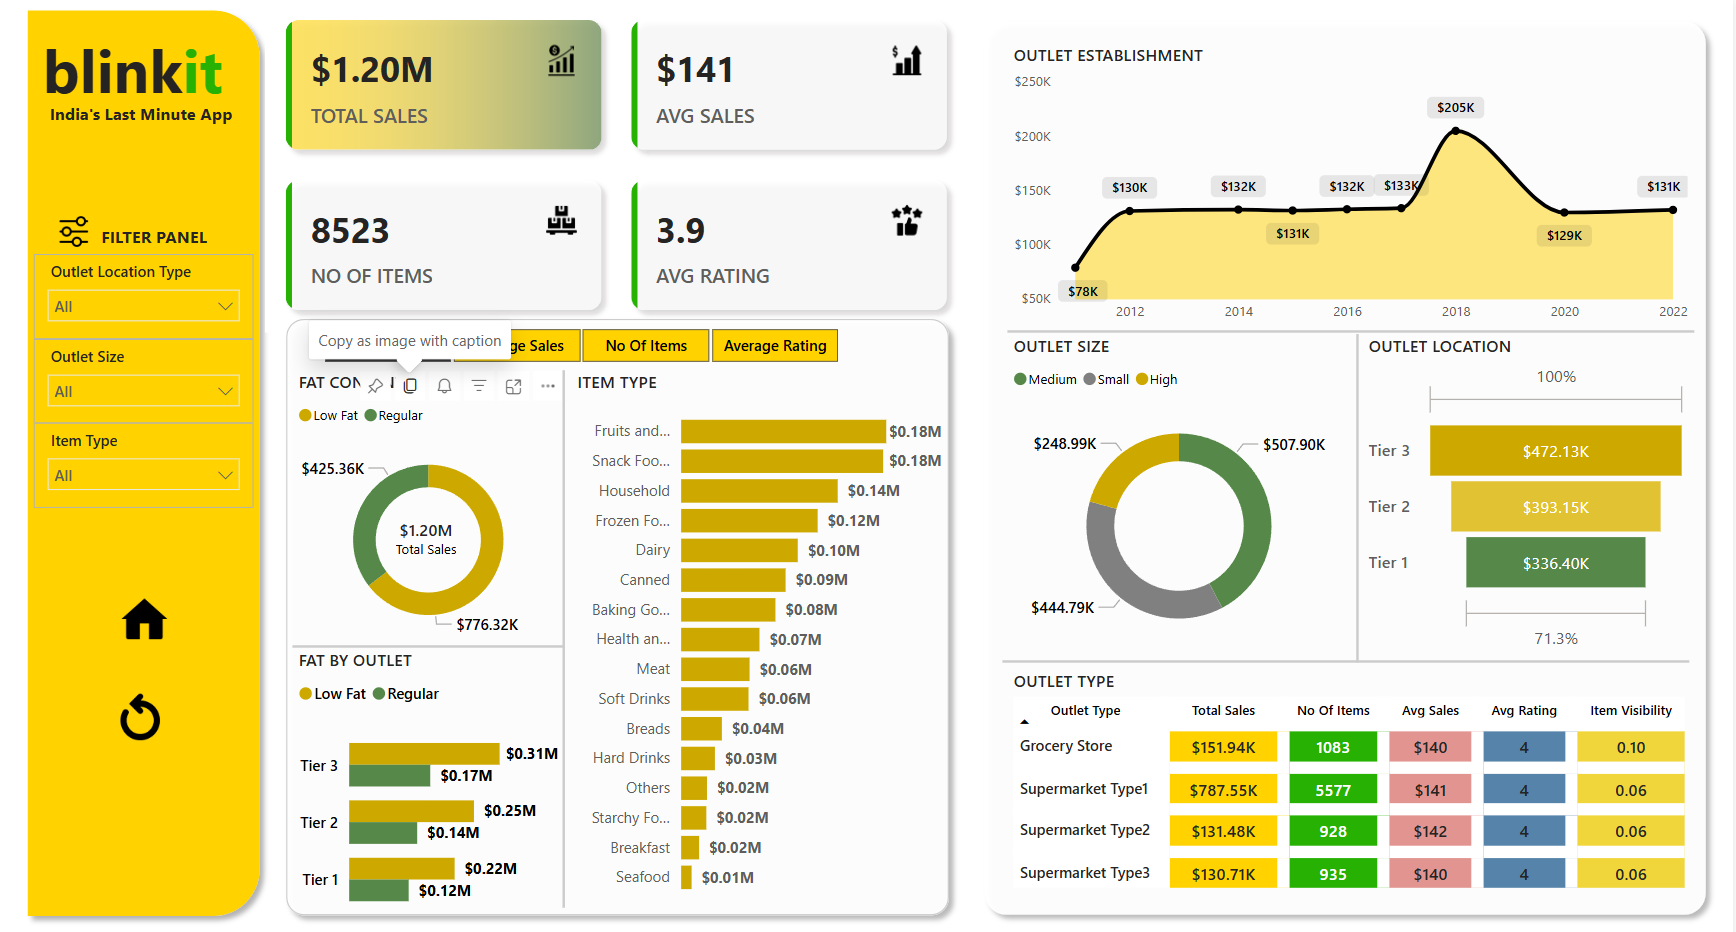

The dashboard page shown, as its layout file describes it:
{"tool":"powerbi","page":{"name":"HOME","canvas":[1400,800],"ordinal":0},"visuals":[{"type":"shape","box":[12.9,0,205.7,750],"z":0},{"type":"textbox","box":[24.1,18.8,166.2,76.4],"z":1000},{"type":"textbox","box":[26.4,79.1,175.5,31.8],"z":2000},{"type":"cardVisual","fields":{"Data":["BlinkIT Grocery Data.Total Sales","BlinkIT Grocery Data.Average Sales","BlinkIT Grocery Data.No Of Items","BlinkIT Grocery Data.Average Rating"]},"box":[214.5,0,569.7,269.4],"z":3000},{"type":"shape","box":[222.5,249.3,553.6,500],"z":4000},{"type":"donutChart","title":"FAT CONTENT","fields":{"Y":["BlinkIT Grocery Data.Total Sales"],"Category":["BlinkIT Grocery Data.Item Fat Content"]},"box":[235.9,300.3,219.8,229.2],"z":5000},{"type":"slicer","fields":{"Values":["Metrics.Metrics"]},"box":[235.9,260.1,465.1,40.2],"z":6000},{"type":"cardVisual","fields":{"Data":["BlinkIT Grocery Data.Total Sales"]},"box":[292.2,399.5,105.9,73.7],"z":7000},{"type":"clusteredBarChart","title":"FAT BY OUTLET","fields":{"Y":["BlinkIT Grocery Data.Total Sales"],"Category":["BlinkIT Grocery Data.Outlet Location Type"],"Series":["BlinkIT Grocery Data.Item Fat Content"]},"box":[235.9,524.1,219.8,230.6],"z":8000},{"type":"shape","box":[235.9,517.4,219.8,12.1],"z":9000},{"type":"shape","box":[449.1,300.3,12.1,434.3],"z":10000},{"type":"barChart","title":"ITEM TYPE","fields":{"Y":["BlinkIT Grocery Data.Total Sales"],"Category":["BlinkIT Grocery Data.Item Type"]},"box":[461.1,300.3,304.3,434.3],"z":11000},{"type":"shape","box":[786.9,9.4,600.5,740],"z":12000},{"type":"lineChart","title":"OUTLET ESTABLISHMENT","fields":{"Y":["BlinkIT Grocery Data.Total Sales"],"Category":["BlinkIT Grocery Data.Outlet Establishment Year"]},"box":[813.7,34.9,555,234.6],"z":13000},{"type":"shape","box":[813.7,262.7,555,12.1],"z":14000},{"type":"donutChart","title":"OUTLET SIZE","fields":{"Y":["BlinkIT Grocery Data.Total Sales"],"Category":["BlinkIT Grocery Data.Outlet Size"]},"box":[813.7,270.8,277.5,265.4],"z":15000},{"type":"shape","box":[1091.2,270.8,12.1,265.4],"z":16000},{"type":"funnel","title":"OUTLET LOCATION","fields":{"Y":["BlinkIT Grocery Data.Total Sales"],"Category":["BlinkIT Grocery Data.Outlet Location Type","BlinkIT Grocery Data.Outlet Identifier"]},"box":[1100.5,270.8,268.1,261.4],"z":17000},{"type":"shape","box":[809.7,529.5,555,12.1],"z":18000},{"type":"pivotTable","title":"OUTLET TYPE","fields":{"Rows":["BlinkIT Grocery Data.Outlet Type"],"Values":["BlinkIT Grocery Data.Total Sales","BlinkIT Grocery Data.No Of Items","BlinkIT Grocery Data.Average Sales","BlinkIT Grocery Data.Average Rating","Avg(BlinkIT Grocery Data.Item Visibility)"]},"box":[813.7,541.6,555,191.7],"z":19000},{"type":"slicer","fields":{"Values":["BlinkIT Grocery Data.Outlet Location Type"]},"box":[27.3,206,177.3,68.7],"z":20000},{"type":"slicer","fields":{"Values":["BlinkIT Grocery Data.Outlet Size"]},"box":[27.3,274.7,177.3,68],"z":21000},{"type":"slicer","fields":{"Values":["BlinkIT Grocery Data.Item Type"]},"box":[27.3,342.7,177.3,68.7],"z":22000},{"type":"image","box":[42.7,170.7,34,34.7],"z":23000},{"type":"textbox","box":[76.7,177.3,125.3,28],"z":24000},{"type":"image","box":[90,471.2,53.8,58.8],"z":25000},{"type":"image","box":[91.2,556.2,45,47.5],"z":26000}]}

Visuals, with their boxes on the page's 1400x800 design canvas (x1, y1, x2, y2). These are canvas units, not pixel positions in the 1736x932 screenshot, which may show the page scaled, cropped or inside an application window:
shape: [left=13, top=0, right=219, bottom=750]
textbox: [left=24, top=19, right=190, bottom=95]
textbox: [left=26, top=79, right=202, bottom=111]
cardVisual - BlinkIT Grocery Data.Total Sales x BlinkIT Grocery Data.Average Sales: [left=214, top=0, right=784, bottom=269]
shape: [left=222, top=249, right=776, bottom=749]
"FAT CONTENT" donutChart: [left=236, top=300, right=456, bottom=530]
slicer - Metrics.Metrics: [left=236, top=260, right=701, bottom=300]
cardVisual - BlinkIT Grocery Data.Total Sales: [left=292, top=400, right=398, bottom=473]
"FAT BY OUTLET" clusteredBarChart: [left=236, top=524, right=456, bottom=755]
shape: [left=236, top=517, right=456, bottom=530]
shape: [left=449, top=300, right=461, bottom=735]
"ITEM TYPE" barChart: [left=461, top=300, right=765, bottom=735]
shape: [left=787, top=9, right=1387, bottom=749]
"OUTLET ESTABLISHMENT" lineChart: [left=814, top=35, right=1369, bottom=270]
shape: [left=814, top=263, right=1369, bottom=275]
"OUTLET SIZE" donutChart: [left=814, top=271, right=1091, bottom=536]
shape: [left=1091, top=271, right=1103, bottom=536]
"OUTLET LOCATION" funnel: [left=1100, top=271, right=1369, bottom=532]
shape: [left=810, top=530, right=1365, bottom=542]
"OUTLET TYPE" pivotTable: [left=814, top=542, right=1369, bottom=733]
slicer - BlinkIT Grocery Data.Outlet Location Type: [left=27, top=206, right=205, bottom=275]
slicer - BlinkIT Grocery Data.Outlet Size: [left=27, top=275, right=205, bottom=343]
slicer - BlinkIT Grocery Data.Item Type: [left=27, top=343, right=205, bottom=411]
image: [left=43, top=171, right=77, bottom=205]
textbox: [left=77, top=177, right=202, bottom=205]
image: [left=90, top=471, right=144, bottom=530]
image: [left=91, top=556, right=136, bottom=604]
